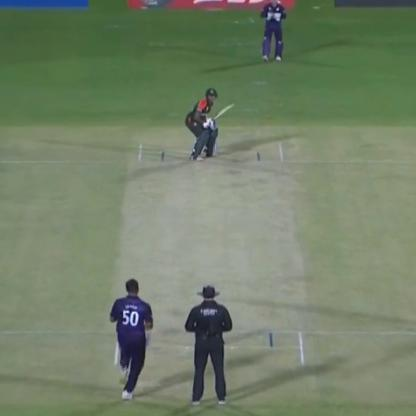bat: (203, 99, 242, 121)
pitch: (115, 136, 322, 389)
